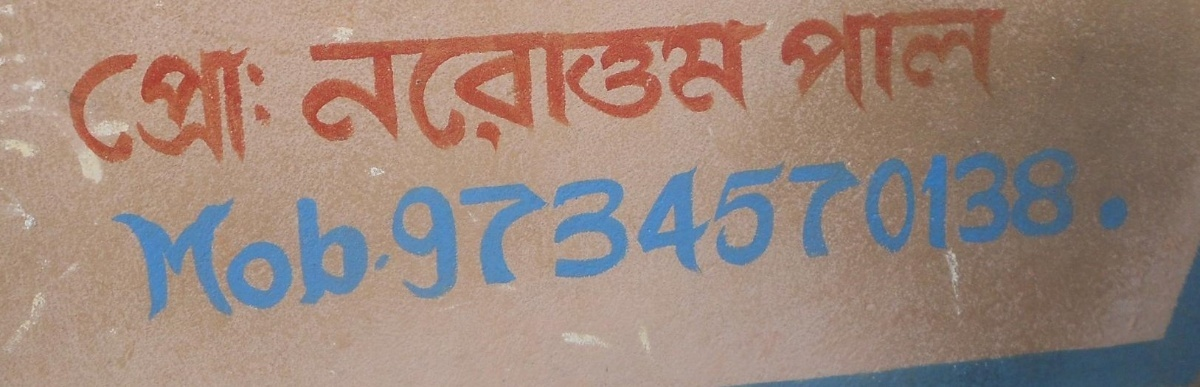text: (113, 130, 128, 323), (129, 130, 144, 323), (145, 130, 160, 323), (161, 130, 176, 323), (177, 130, 192, 323), (193, 130, 208, 323), (209, 130, 224, 323), (225, 130, 240, 323), (241, 130, 256, 323), (257, 130, 272, 323), (273, 130, 288, 323), (289, 130, 304, 323), (305, 130, 320, 323), (321, 130, 336, 323), (337, 130, 352, 323), (353, 130, 368, 323), (369, 130, 384, 323), (385, 130, 400, 323), (401, 130, 416, 323), (417, 130, 432, 323), (433, 130, 448, 323), (449, 130, 464, 323), (465, 130, 480, 323), (481, 130, 496, 323), (497, 130, 512, 323), (513, 130, 528, 323), (529, 130, 544, 323), (545, 130, 560, 323), (561, 130, 576, 323), (577, 130, 592, 323), (593, 130, 608, 323), (609, 130, 624, 323), (625, 130, 640, 323), (641, 130, 656, 323), (657, 130, 672, 323), (673, 130, 688, 323), (689, 130, 704, 323), (705, 130, 720, 323), (721, 130, 736, 323), (737, 130, 752, 323), (753, 130, 768, 323), (769, 130, 784, 323), (785, 130, 800, 323), (801, 130, 816, 323), (817, 130, 832, 323), (833, 130, 848, 323), (849, 130, 864, 323), (865, 130, 880, 323), (881, 130, 896, 323), (897, 130, 912, 323), (913, 130, 928, 323), (929, 130, 944, 323), (945, 130, 960, 323), (961, 130, 976, 323), (977, 130, 992, 323), (993, 130, 1008, 323), (1009, 130, 1024, 323), (1025, 130, 1040, 323), (1041, 130, 1056, 323), (1057, 130, 1072, 323), (1073, 130, 1088, 323), (1089, 130, 1104, 323), (1105, 130, 1120, 323), (1121, 130, 1136, 323), (305, 15, 320, 154), (321, 15, 336, 154), (337, 15, 352, 154), (353, 15, 368, 154), (369, 15, 384, 154), (385, 15, 400, 154), (401, 15, 416, 154), (417, 15, 432, 154), (433, 15, 448, 154), (449, 15, 464, 154), (465, 15, 480, 154), (481, 15, 496, 154), (497, 15, 512, 154), (513, 15, 528, 154), (529, 15, 544, 154), (545, 15, 560, 154), (561, 15, 576, 154), (577, 15, 592, 154), (593, 15, 608, 154), (609, 15, 624, 154), (625, 15, 640, 154), (641, 15, 656, 154), (657, 15, 672, 154), (673, 15, 688, 154), (689, 15, 704, 154), (705, 15, 720, 154), (721, 15, 736, 154), (737, 15, 752, 154), (753, 15, 768, 154), (81, 43, 96, 168), (97, 43, 112, 168), (113, 43, 128, 168), (129, 43, 144, 168), (145, 43, 160, 168), (161, 43, 176, 168), (177, 43, 192, 168), (193, 43, 208, 168), (209, 43, 224, 168), (225, 43, 240, 168), (241, 43, 256, 168), (257, 43, 272, 168), (785, 2, 800, 115), (801, 2, 816, 115), (817, 2, 832, 115), (833, 2, 848, 115), (849, 2, 864, 115), (865, 2, 880, 115), (881, 2, 896, 115), (897, 2, 912, 115), (913, 2, 928, 115), (929, 2, 944, 115), (945, 2, 960, 115), (961, 2, 976, 115), (977, 2, 992, 115), (993, 2, 1008, 115), (67, 43, 80, 168), (106, 130, 112, 323), (297, 15, 304, 154), (781, 2, 784, 115), (1009, 2, 1012, 115), (769, 15, 771, 154), (273, 43, 275, 168)
